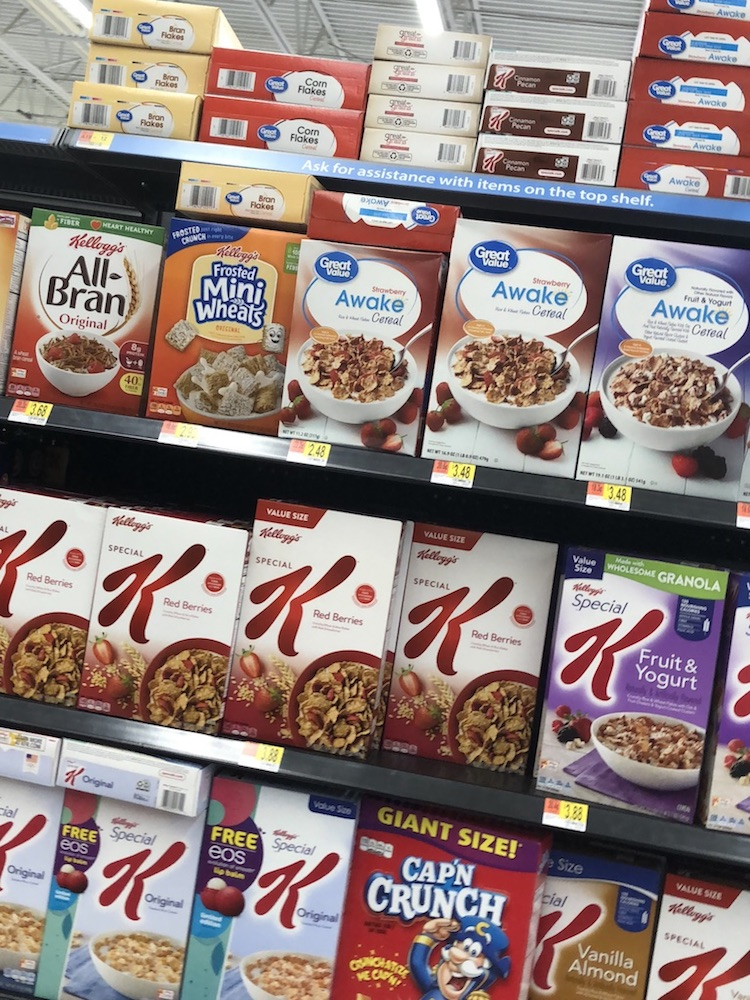Frosted Mini Original -9295869: (151, 227, 295, 435)
